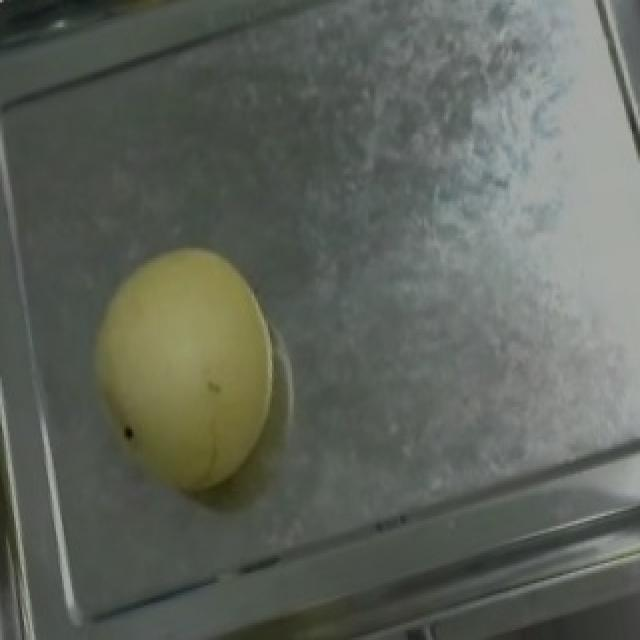Fruit: (60, 213, 312, 521)
